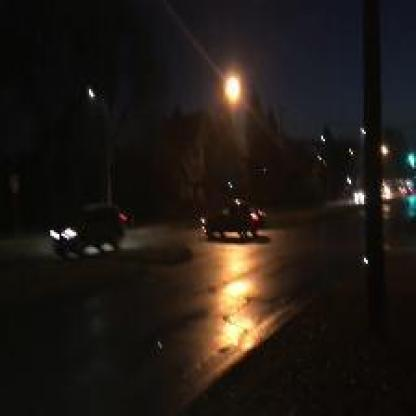other: (212, 251, 255, 353), (212, 60, 262, 119)
